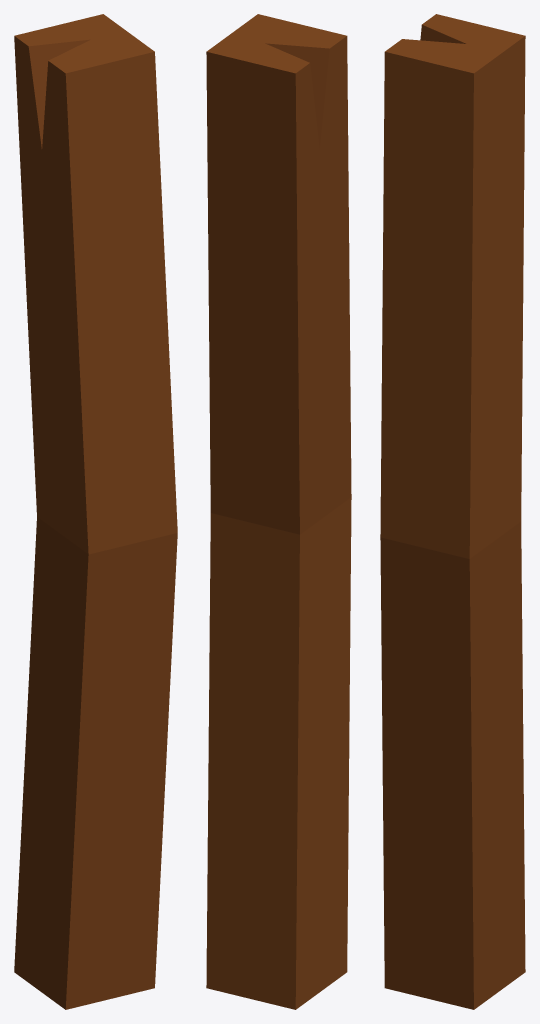
File: FencePost2.fbx
The picture shows the model from 3 angles, left to right: view 1: azimuth 30°, elevation 25°; view 2: azimuth 150°, elevation 25°; view 3: azimuth 330°, elevation 25°; orthographic projection.
Parts seen in each view (by area): view 1: FencePost2; view 2: FencePost2; view 3: FencePost2.
Part boxes in pixels (box(x1,y1,x2,y2)): FencePost2: box(14, 14, 177, 1009); FencePost2: box(206, 14, 351, 1009); FencePost2: box(380, 14, 525, 1009).
Bounding box in the file's own units: 12 × 109 × 13.73.
